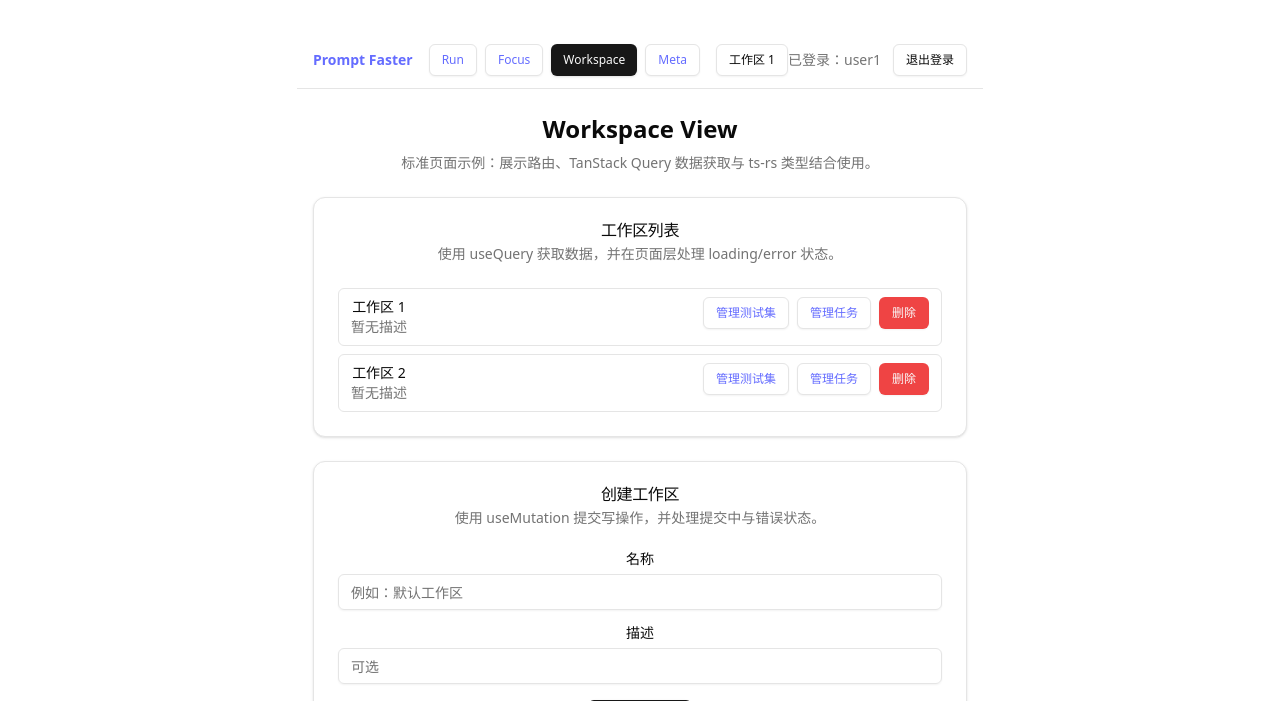
Test case: App routes › Workspace View 中点击删除 → 弹出确认对话框
expect the text "工作区 1" is shown: met, box [351,297,407,317]
Click the button with test id "workspace-delete-ws-1" at (904, 313), box [879,297,929,329]
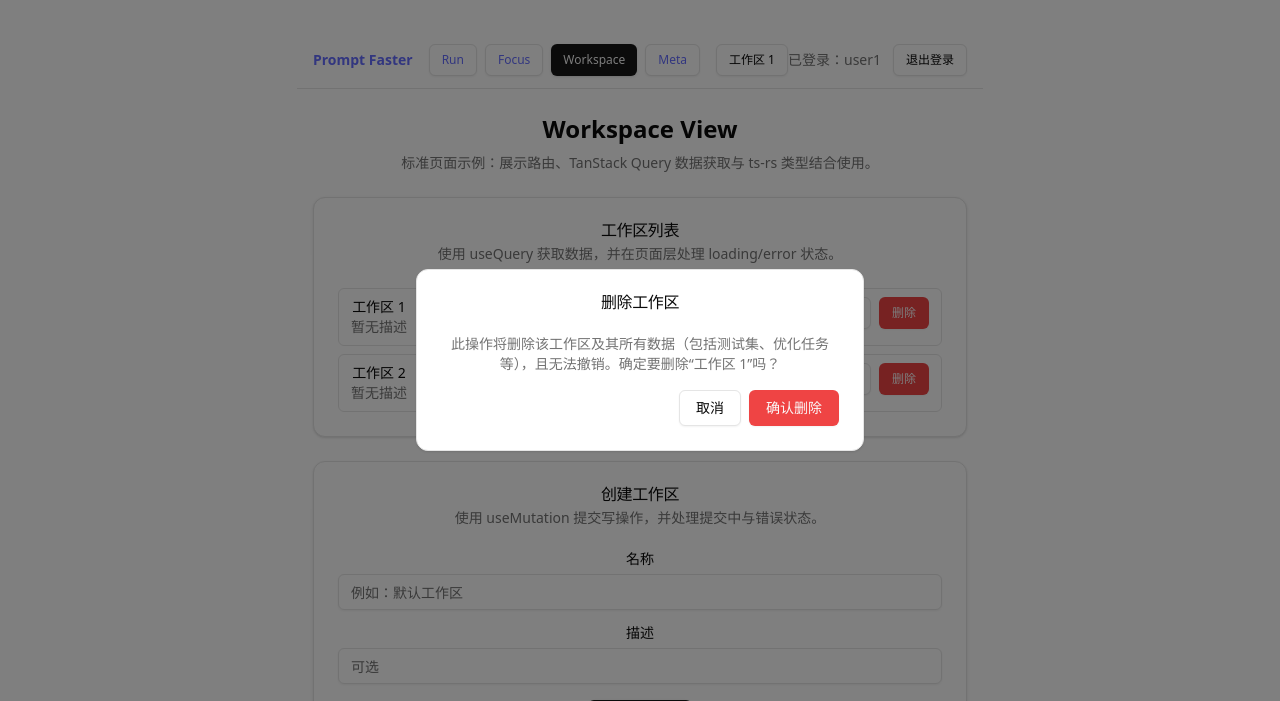
expect the dialog is shown: met, box [416,269,864,451]
expect the text "删除工作区" is shown: met, box [601,291,679,313]
